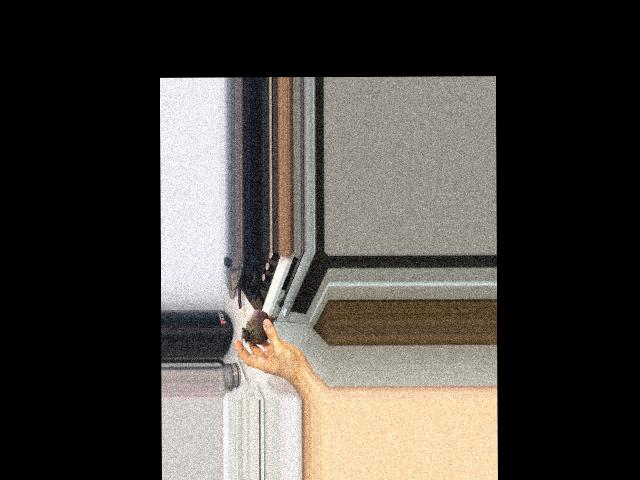beet: (241, 309, 279, 354)
